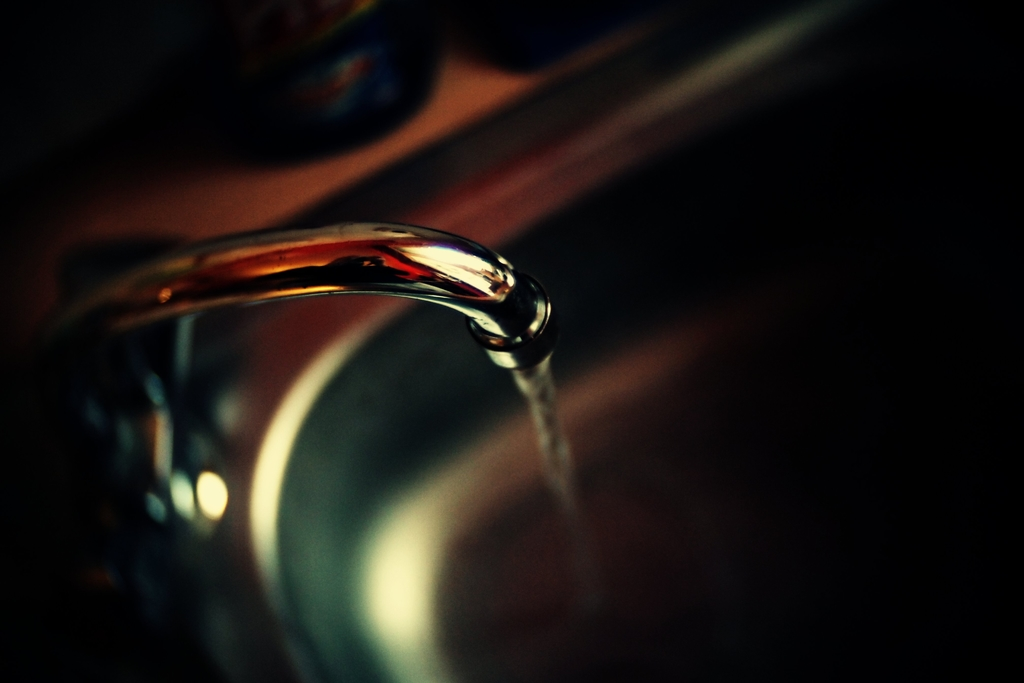tap: (82, 199, 549, 549)
